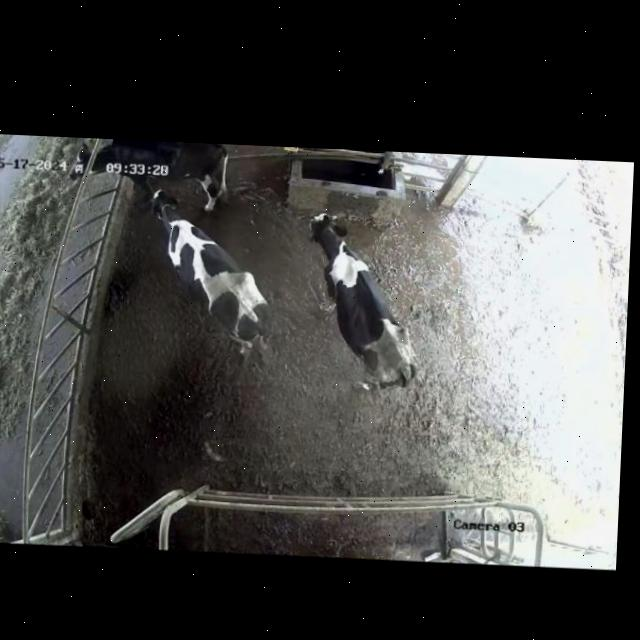eat: (32, 136, 140, 192)
stand: (289, 201, 431, 408), (142, 186, 287, 362)
